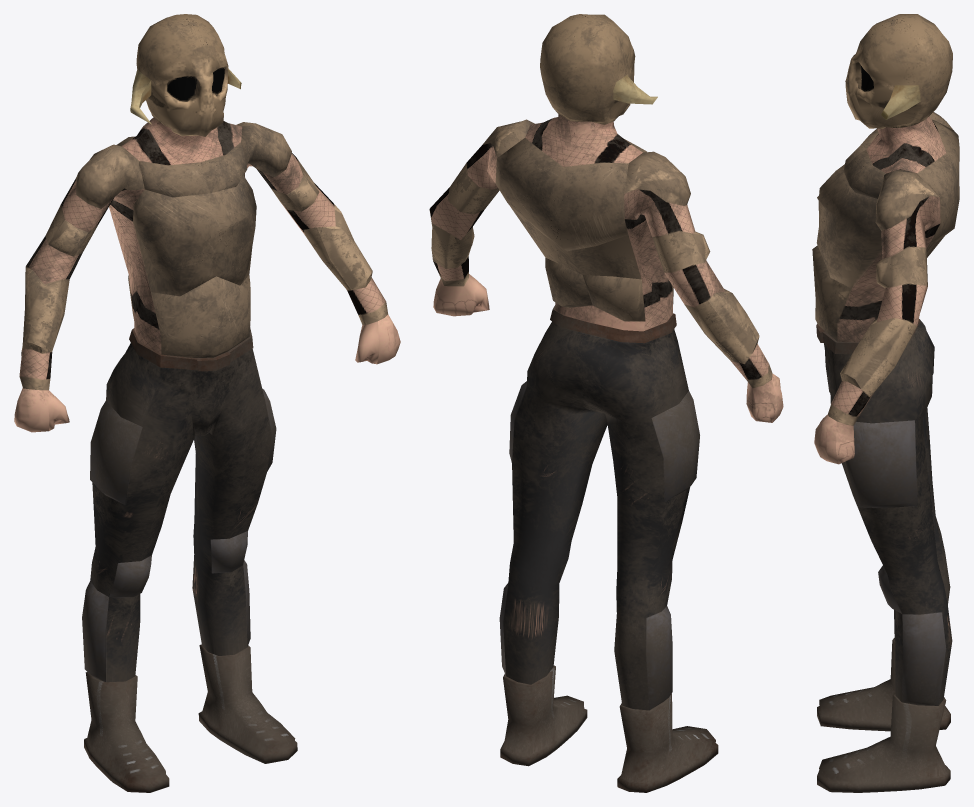
Rendered from Anim_idle_npc1.0044.obj.
3 views of the same model, side by side, from view 1: azimuth 30°, elevation 25°; view 2: azimuth 150°, elevation 25°; view 3: azimuth 270°, elevation 25° (orthographic). The views are drawn at different scales.
Parts seen in each view (by area): view 1: NPC2; view 2: NPC2; view 3: NPC2.
Part boxes in pixels (x1,y1,x2,y2): NPC2: (14,14,400,792); NPC2: (429,14,783,792); NPC2: (812,14,959,792).
Bounding box in the file's own units: 5 × 9.67 × 1.75.
